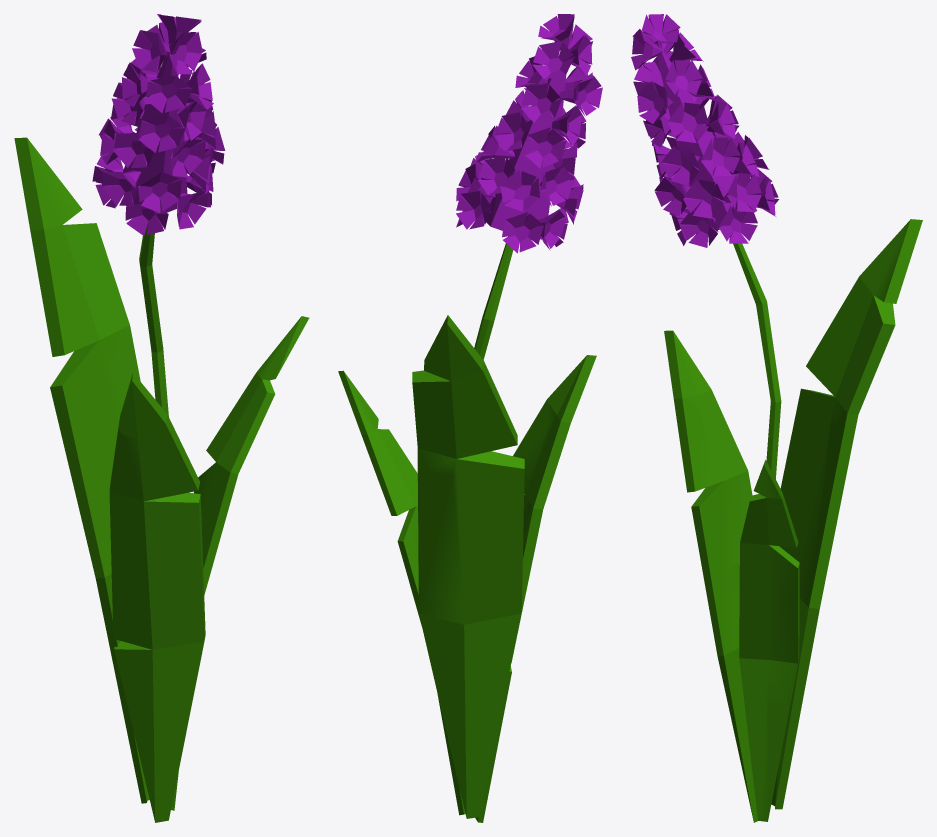
File: FleurGravityTest.fbx
3 views of the same model, side by side, from view 1: azimuth 30°, elevation 25°; view 2: azimuth 150°, elevation 25°; view 3: azimuth 270°, elevation 25° (orthographic). The views are drawn at different scales.
Visible parts, largest first — view 1: polySurface52, polySurface19, polySurface44, polySurface39; view 2: polySurface19, polySurface52, polySurface44, polySurface39; view 3: polySurface52, polySurface19, polySurface44, polySurface39.
Part boxes in pixels (box(x1,y1,x2,y2)): polySurface52: box(51, 357, 281, 572); polySurface19: box(14, 14, 225, 249); polySurface44: box(90, 541, 218, 822); polySurface39: box(26, 193, 309, 439); polySurface19: box(429, 14, 602, 360); polySurface52: box(354, 411, 566, 601); polySurface44: box(408, 579, 527, 822); polySurface39: box(338, 300, 596, 476); polySurface52: box(676, 400, 853, 598); polySurface19: box(631, 14, 922, 287); polySurface44: box(704, 563, 823, 822); polySurface39: box(664, 265, 903, 488).
Bounding box in the file's own units: 10.12 × 35.21 × 11.84.
